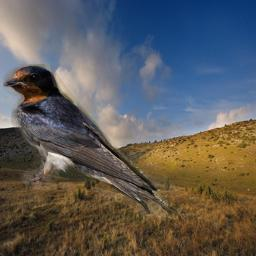Swallow: (3, 64, 186, 222)
